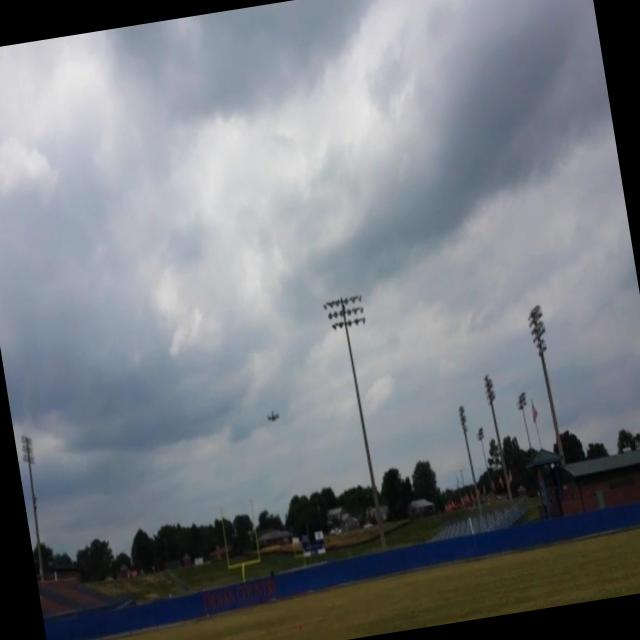drone: (264, 407, 284, 428)
